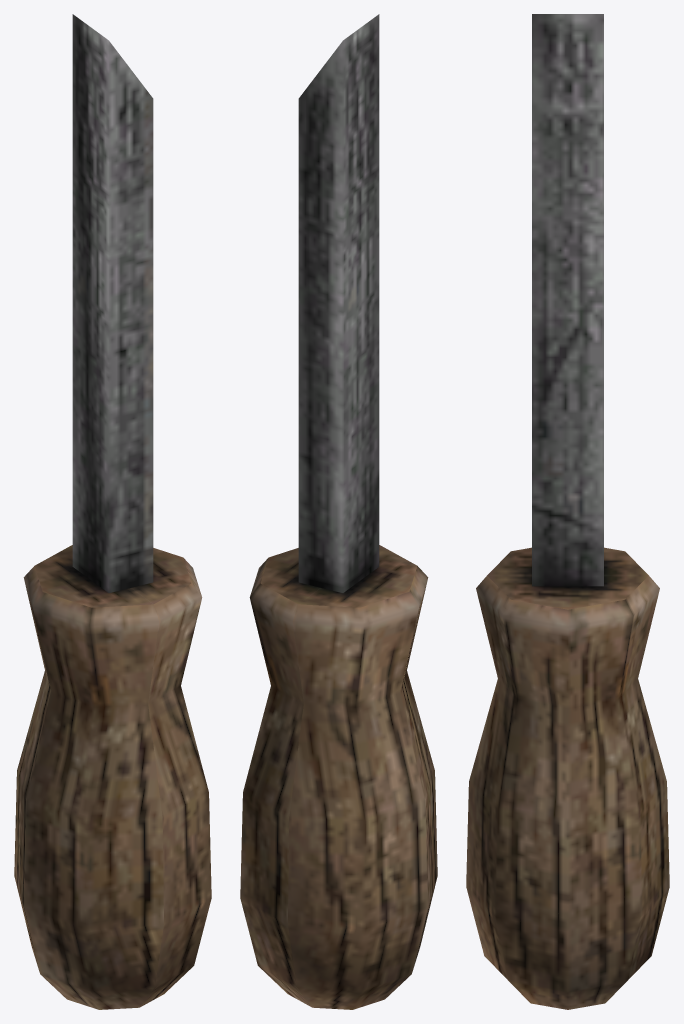
Rendered from chisel.dae.
The picture shows the model from 3 angles, left to right: view 1: azimuth 30°, elevation 25°; view 2: azimuth 150°, elevation 25°; view 3: azimuth 270°, elevation 25°; orthographic projection.
Parts seen in each view (by area): view 1: chisel_mesh; view 2: chisel_mesh; view 3: chisel_mesh.
Part boxes in pixels (left/top/right/bottom): chisel_mesh: left=14, top=14, right=211, bottom=1009; chisel_mesh: left=240, top=14, right=437, bottom=1009; chisel_mesh: left=466, top=14, right=669, bottom=1009.
Size of the model in its own units: 0.0567 by 0.3 by 0.0567.
